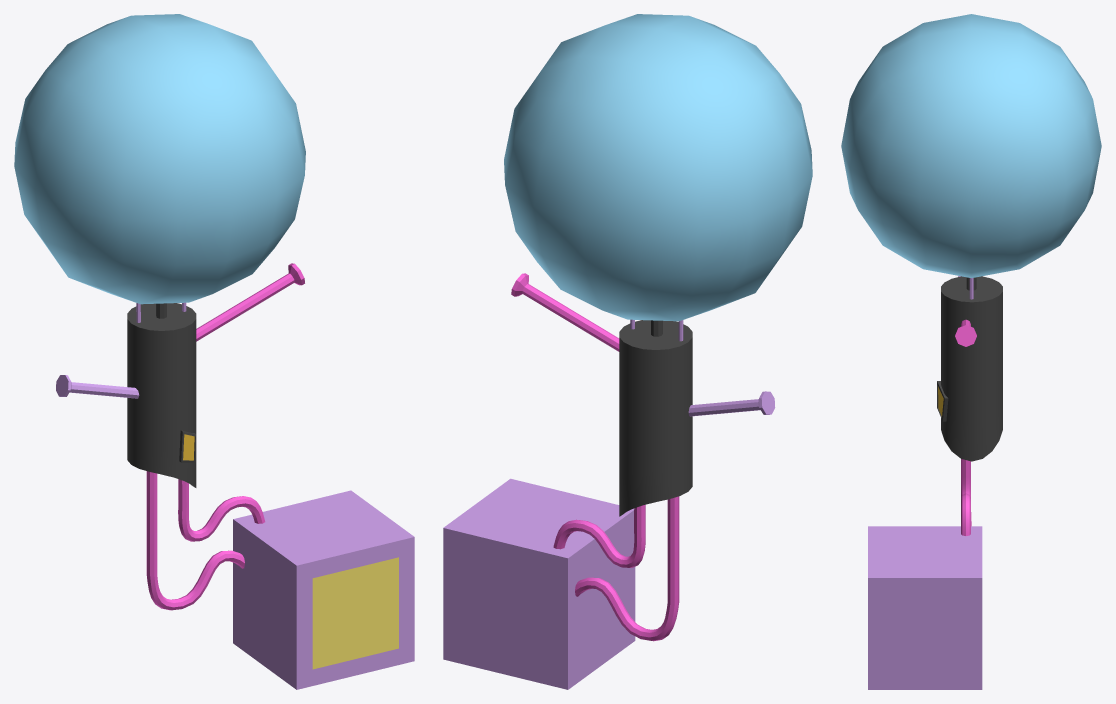
Rendered from Tesla.FBX.
The picture shows the model from 3 angles, left to right: view 1: azimuth 30°, elevation 25°; view 2: azimuth 150°, elevation 25°; view 3: azimuth 270°, elevation 25°; orthographic projection. The views are drawn at different scales.
Parts seen in each view (by area): view 1: Pieza 2; view 2: Pieza 2; view 3: Pieza 2.
Part boxes in pixels (<box>): Pieza 2: <box>14,14,414,689</box>; Pieza 2: <box>443,14,812,689</box>; Pieza 2: <box>841,14,1101,689</box>.
Bounding box in the file's own units: 137 × 259 × 106.
